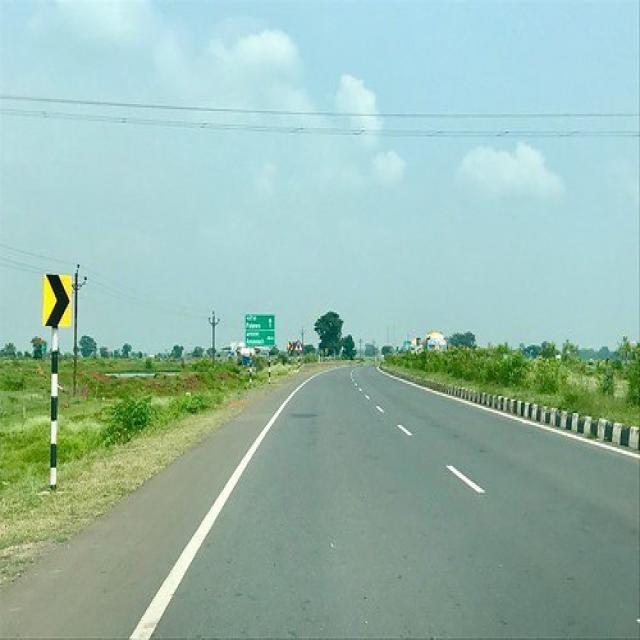chevron_right: (44, 274, 73, 329)
